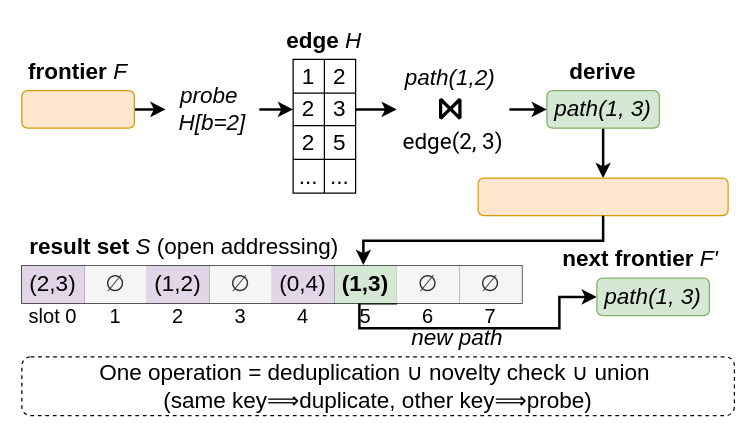
The diagram is 756 pixels wide and 438 high, and some of its shapes have lost their labels. The shapes that lost their labels are listed below. From the top down, each one's centre as x and y in pixels, then its label:
At point 77,108: "path(1, 2)".
At point 602,196: "pack →k=0x0001_0003".
